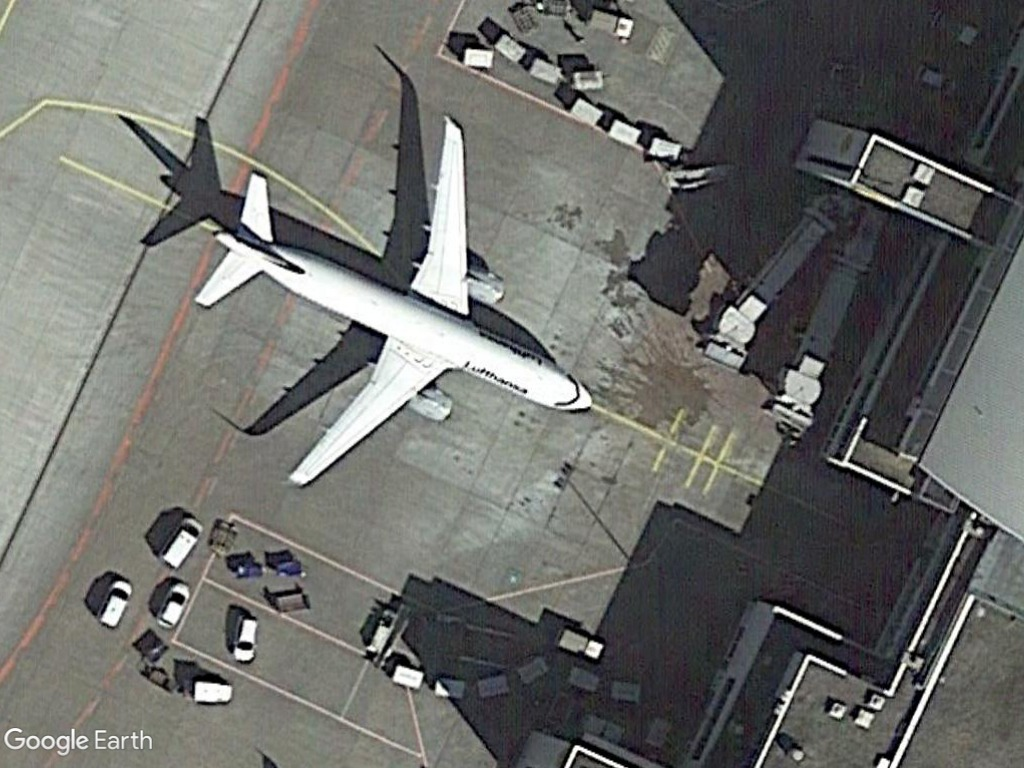airliner: (185, 107, 599, 492)
car: (151, 580, 192, 631), (230, 609, 259, 667)
van: (156, 516, 203, 574), (95, 576, 135, 634)
